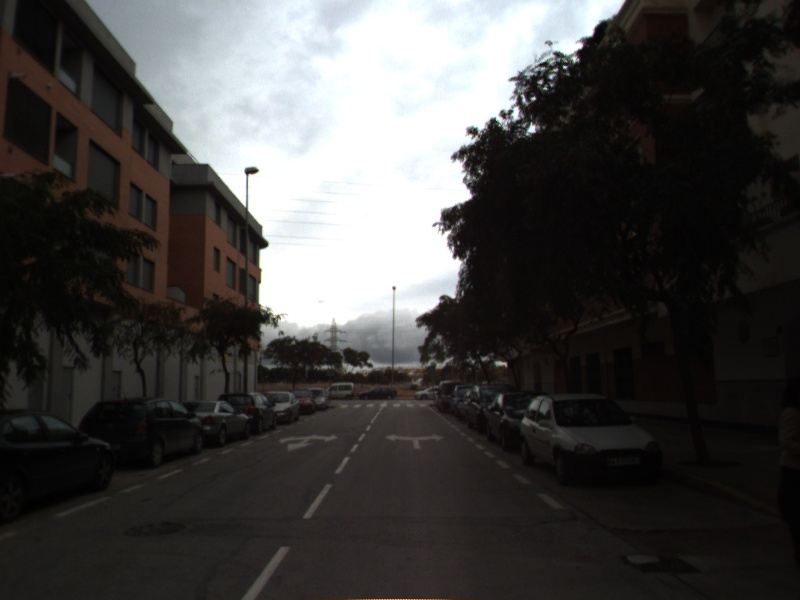LEFT_RIGHT: (384, 432, 446, 451)
